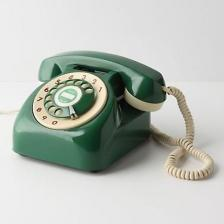green: (13, 51, 166, 171)
